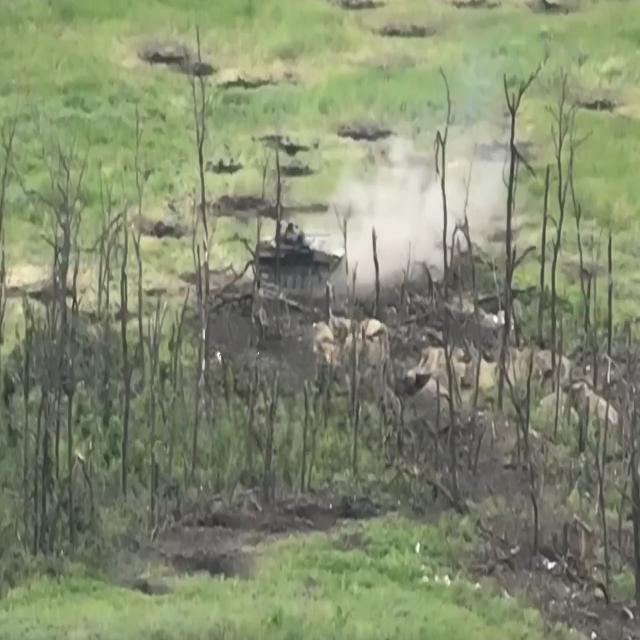AIFV: (253, 218, 348, 292)
